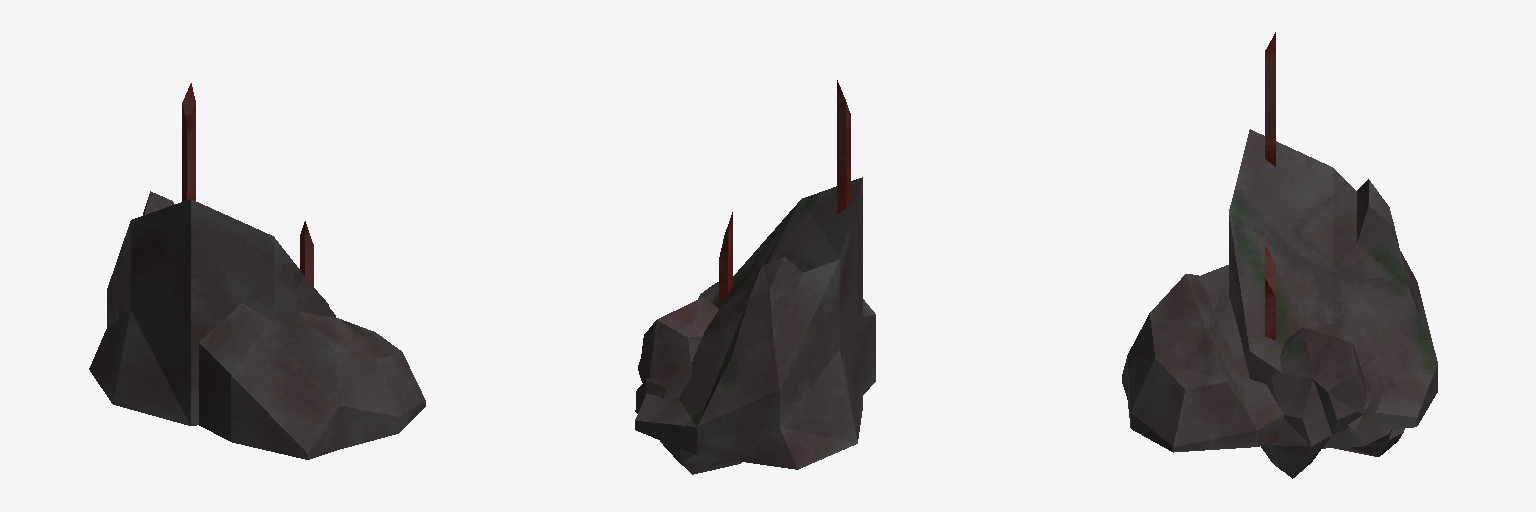
3 views of the same model, side by side, from view 1: azimuth 30°, elevation 25°; view 2: azimuth 150°, elevation 25°; view 3: azimuth 270°, elevation 25° (orthographic).
Parts seen in each view (by area): view 1: cuboid; view 2: cuboid, sphere; view 3: cuboid, sphere.
Boxes of the visible parts, x1,y1,x2,y2 form: cuboid: [89, 83, 425, 459]; cuboid: [635, 80, 875, 469]; sphere: [635, 297, 741, 474]; cuboid: [1122, 32, 1437, 452]; sphere: [1261, 327, 1404, 478].
Bounding box in the file's own units: 1.61 × 2.53 × 1.89.
Materials: 1 (1 with a texture image).